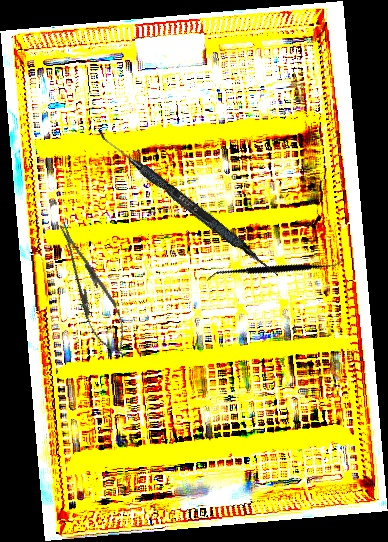Needle Holder: (47, 217, 137, 363)
Spatula Surgical: (91, 128, 284, 279), (206, 206, 345, 335)
